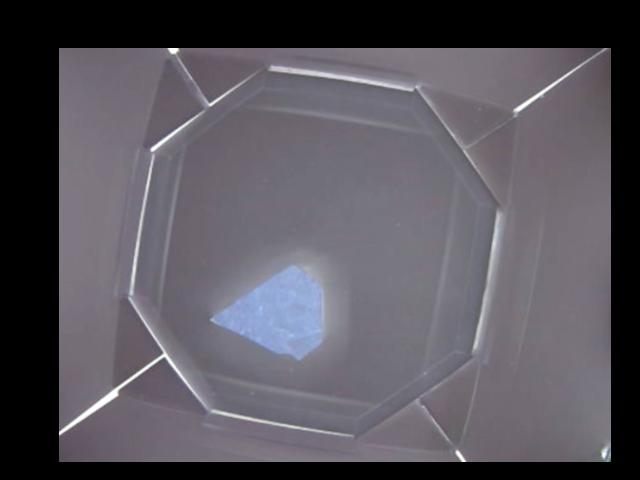China: (207, 264, 324, 364)
